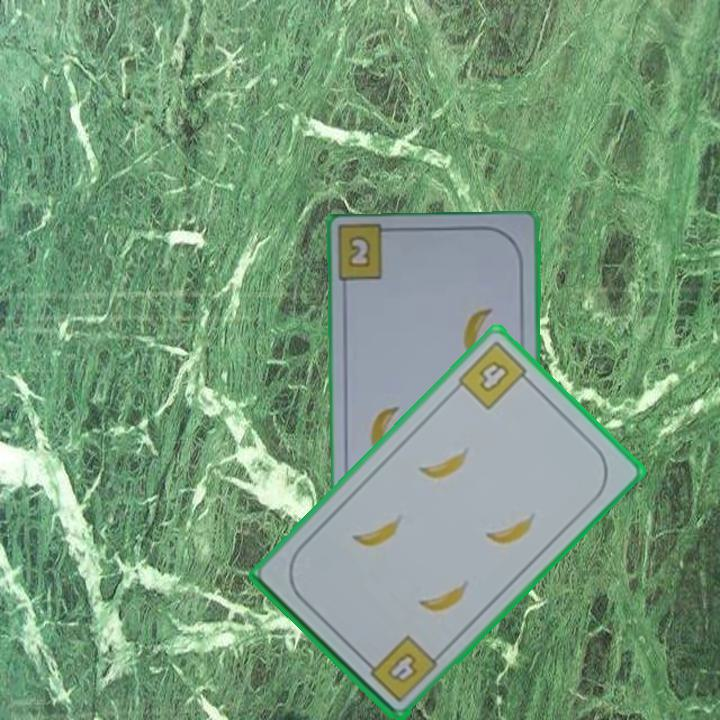2b: (345, 232, 374, 271)
4b: (454, 337, 536, 413), (360, 631, 441, 705)
